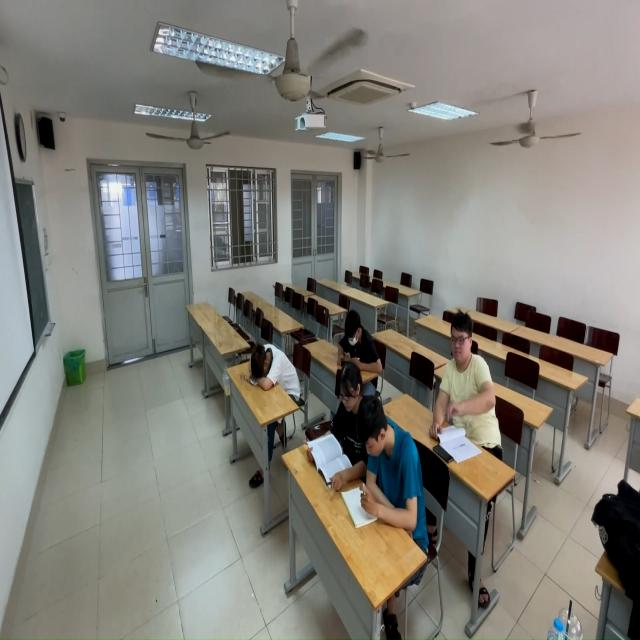read: (341, 392, 433, 545), (429, 307, 510, 471), (303, 359, 372, 494), (340, 304, 379, 380)
sleep: (239, 339, 298, 396)
